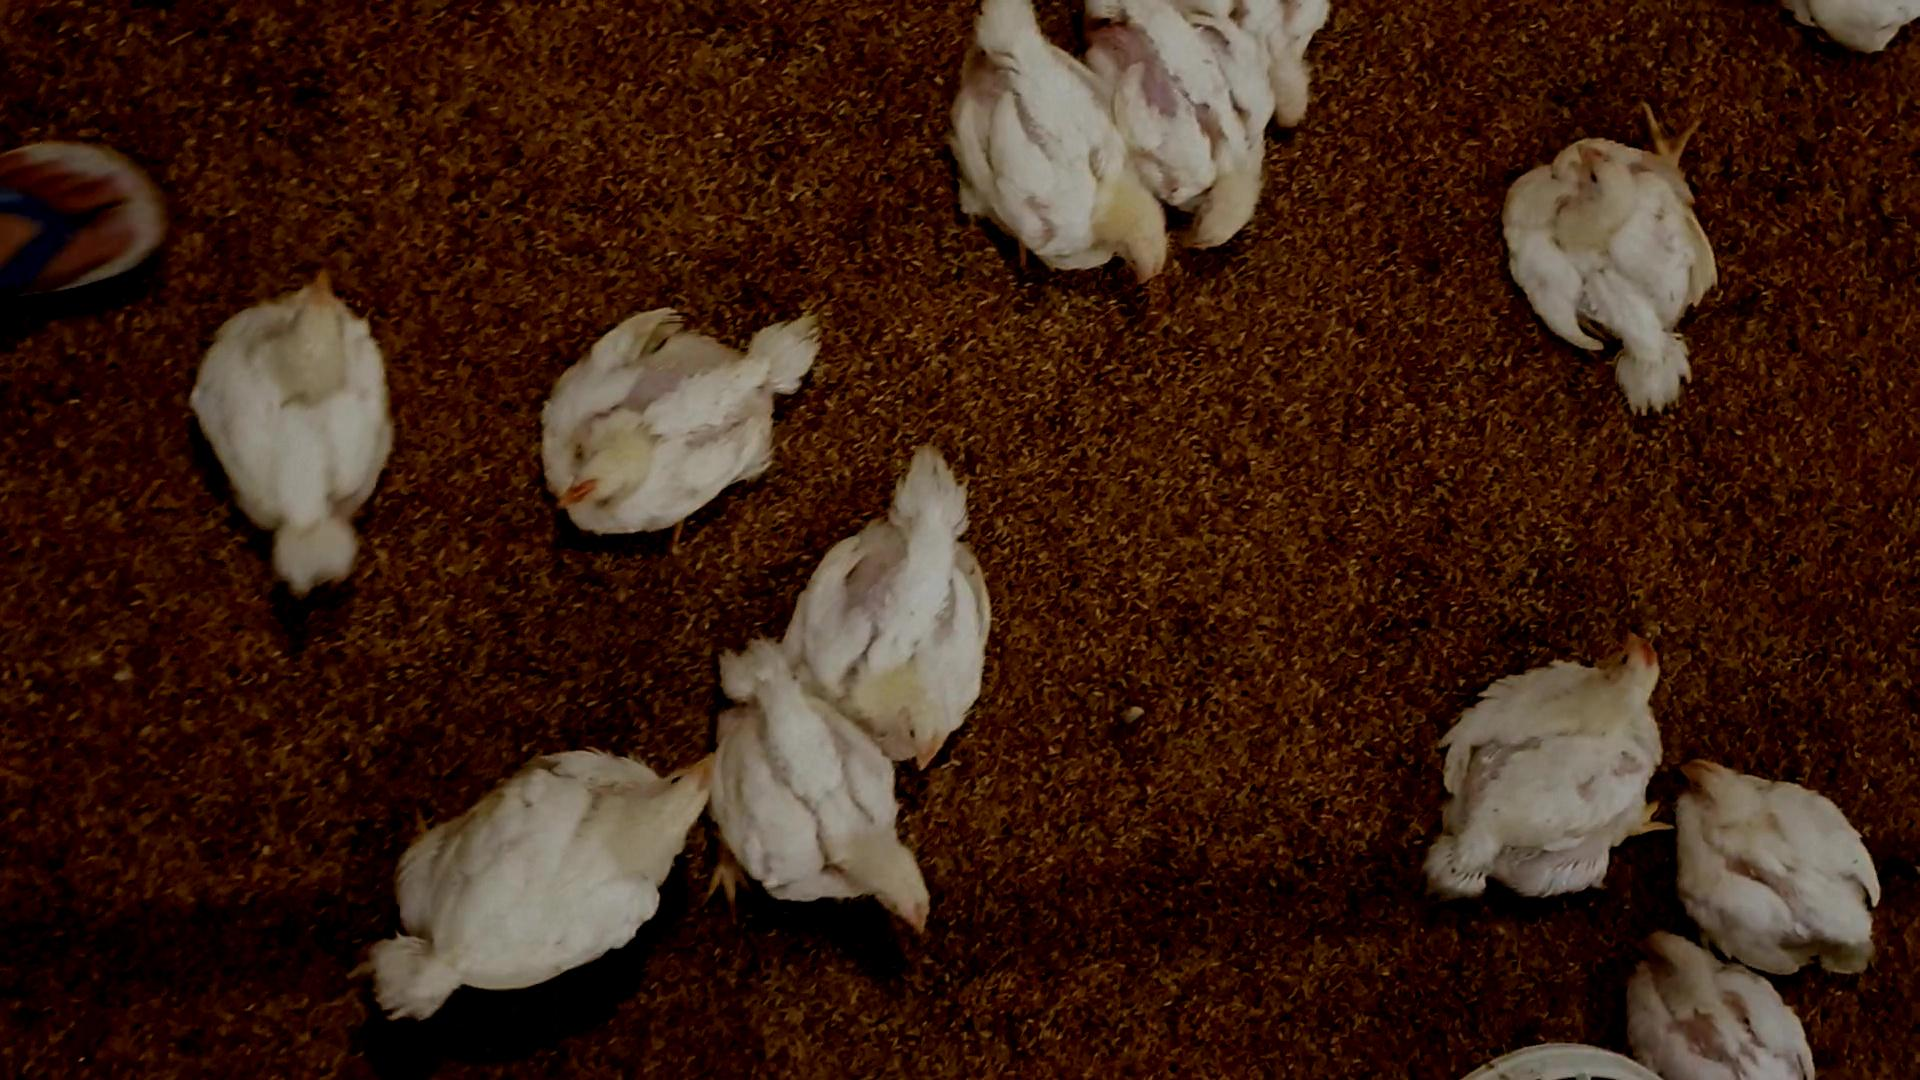Pollos: (349, 746, 732, 1026), (1414, 615, 1673, 893), (189, 266, 398, 603), (535, 298, 822, 541), (947, 1, 1178, 295), (1506, 103, 1710, 425), (831, 431, 996, 761), (1664, 748, 1874, 961), (746, 761, 938, 940), (1146, 8, 1271, 256)
